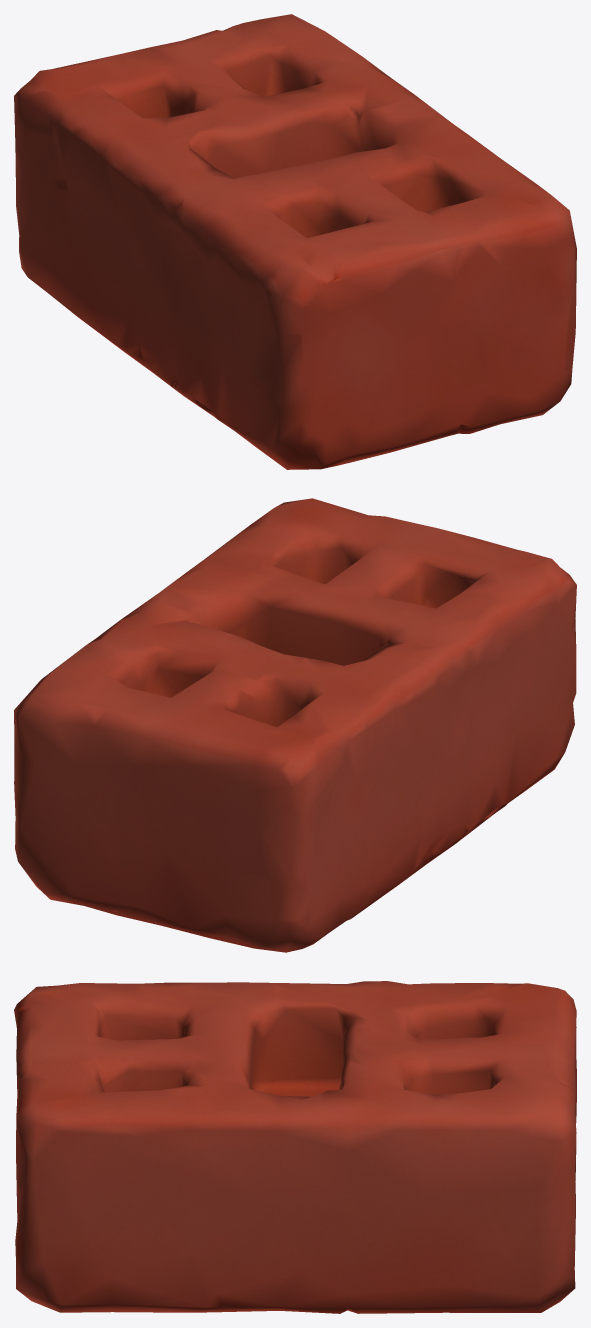
File: weapon_brick_v2_tertiary_1500_raw.glb
3 renders of one model, top to bottom at view 1: azimuth 30°, elevation 25°; view 2: azimuth 150°, elevation 25°; view 3: azimuth 270°, elevation 25°, orthographic.
Visible parts, largest first — view 1: tripo_node_51272eb3-6a54-49ec-91e4-e7a6a001dc5f; view 2: tripo_node_51272eb3-6a54-49ec-91e4-e7a6a001dc5f; view 3: tripo_node_51272eb3-6a54-49ec-91e4-e7a6a001dc5f.
Boxes of the visible parts, box(x1,y1,x2,y2) form: tripo_node_51272eb3-6a54-49ec-91e4-e7a6a001dc5f: box(14, 14, 576, 469); tripo_node_51272eb3-6a54-49ec-91e4-e7a6a001dc5f: box(14, 498, 576, 952); tripo_node_51272eb3-6a54-49ec-91e4-e7a6a001dc5f: box(14, 981, 576, 1313).
Bounding box in the file's own units: 0.588 × 0.391 × 0.9787.
Materials: 1 (1 with a texture image).
